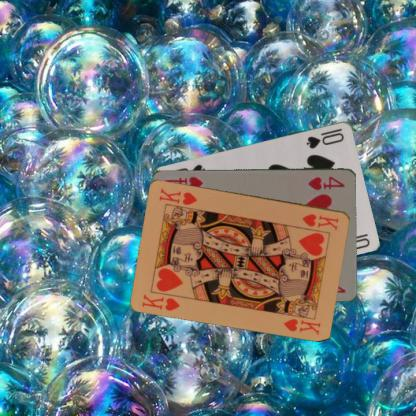10s: (303, 125, 346, 150)
4h: (306, 174, 346, 192)
Kh: (140, 291, 181, 312), (300, 211, 340, 232)
